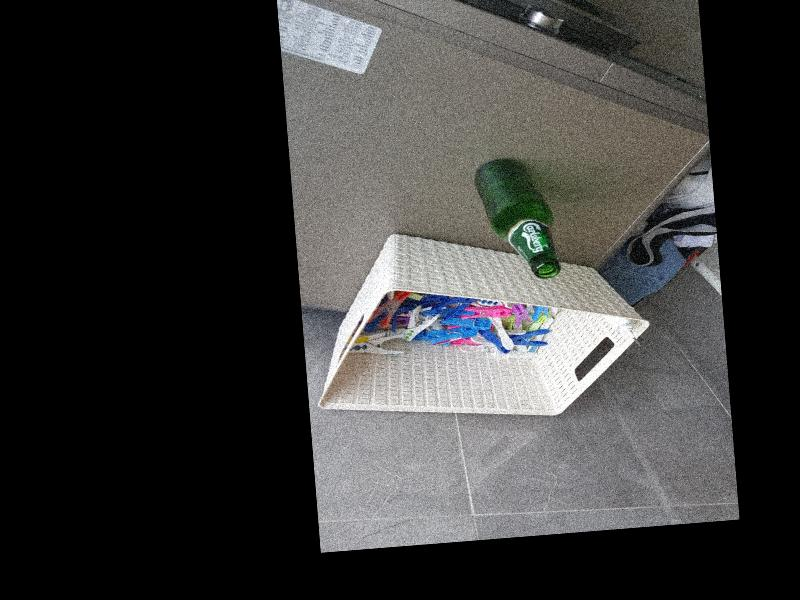Beer: (472, 155, 560, 283)
